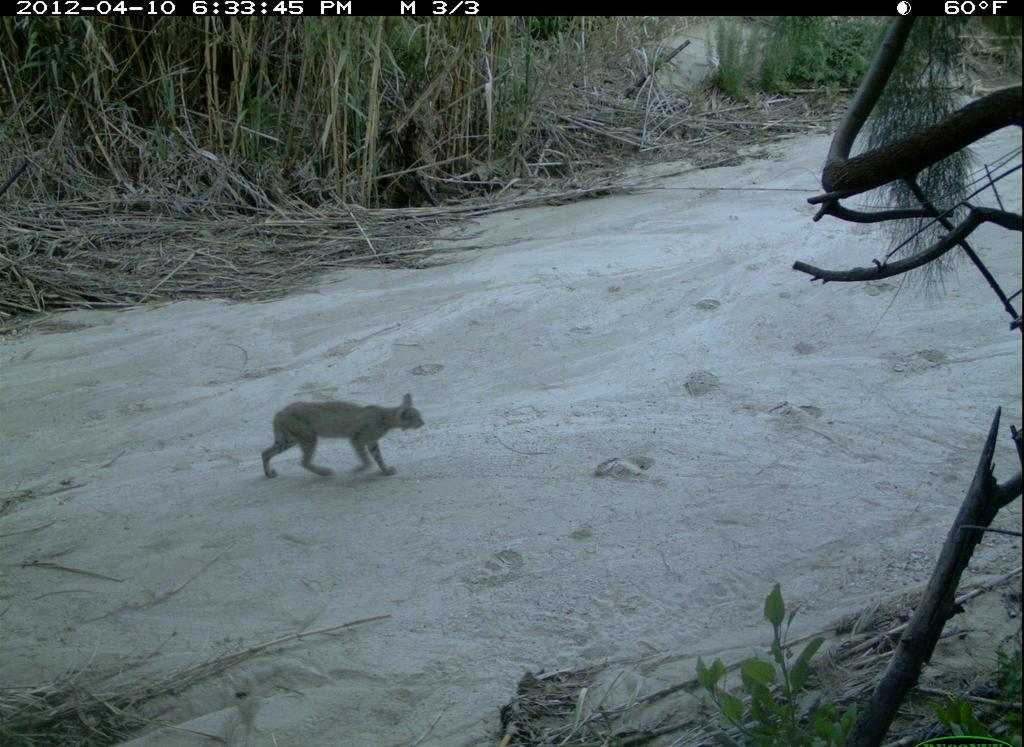bobcat: (255, 382, 450, 486)
